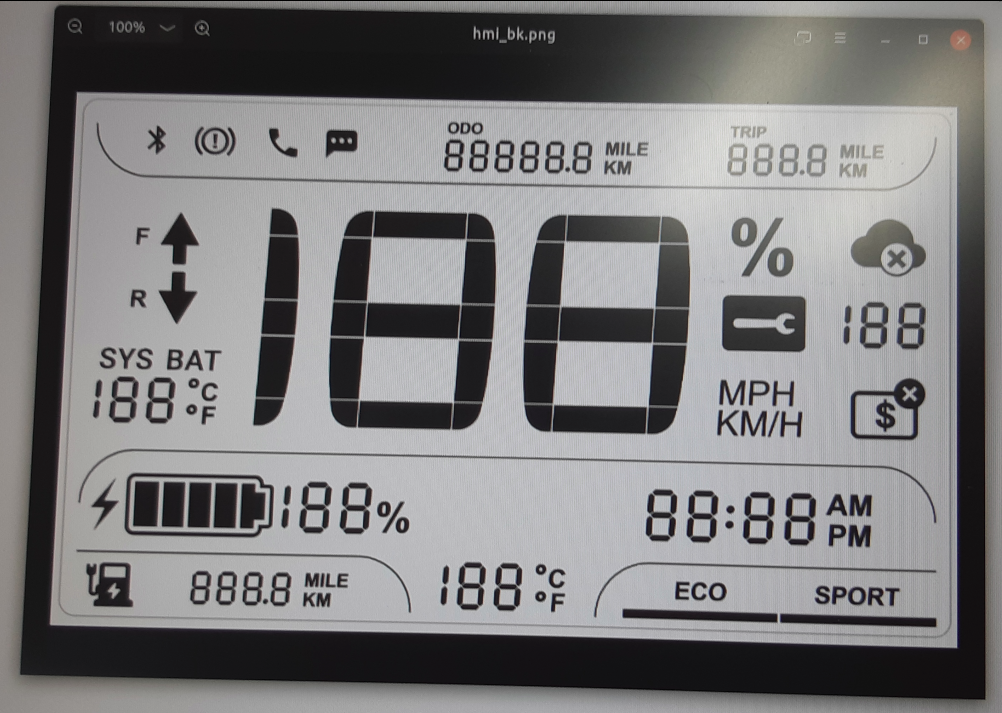bluetooth_on: (141, 121, 171, 158)
braking_on: (191, 122, 238, 159)
calling_on: (265, 125, 300, 160)
connection_lost: (848, 217, 930, 279)
error_code: (718, 289, 810, 356)
low_battery: (82, 556, 138, 611)
sms_on: (321, 125, 361, 162)
vin_id: (846, 376, 929, 442)
